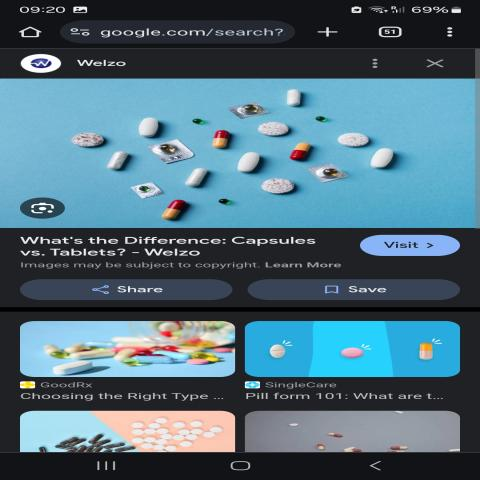Pill: (170, 166, 221, 191), (128, 114, 176, 140), (327, 126, 378, 150), (230, 150, 273, 178), (245, 120, 303, 138), (70, 129, 114, 150), (257, 178, 300, 199), (368, 145, 398, 175), (158, 198, 193, 222), (284, 140, 315, 164), (104, 149, 132, 175), (279, 86, 309, 108), (209, 127, 232, 152), (212, 196, 244, 208), (186, 114, 209, 126), (310, 112, 334, 123)
